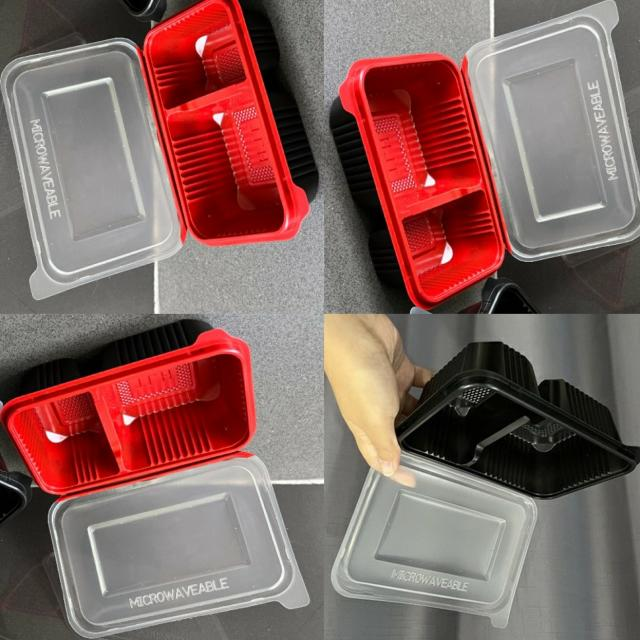plastik: (49, 454, 309, 637), (2, 39, 184, 299), (465, 1, 640, 261), (1, 319, 256, 494), (331, 53, 505, 309), (143, 0, 318, 246), (397, 342, 640, 499), (332, 453, 537, 627)
